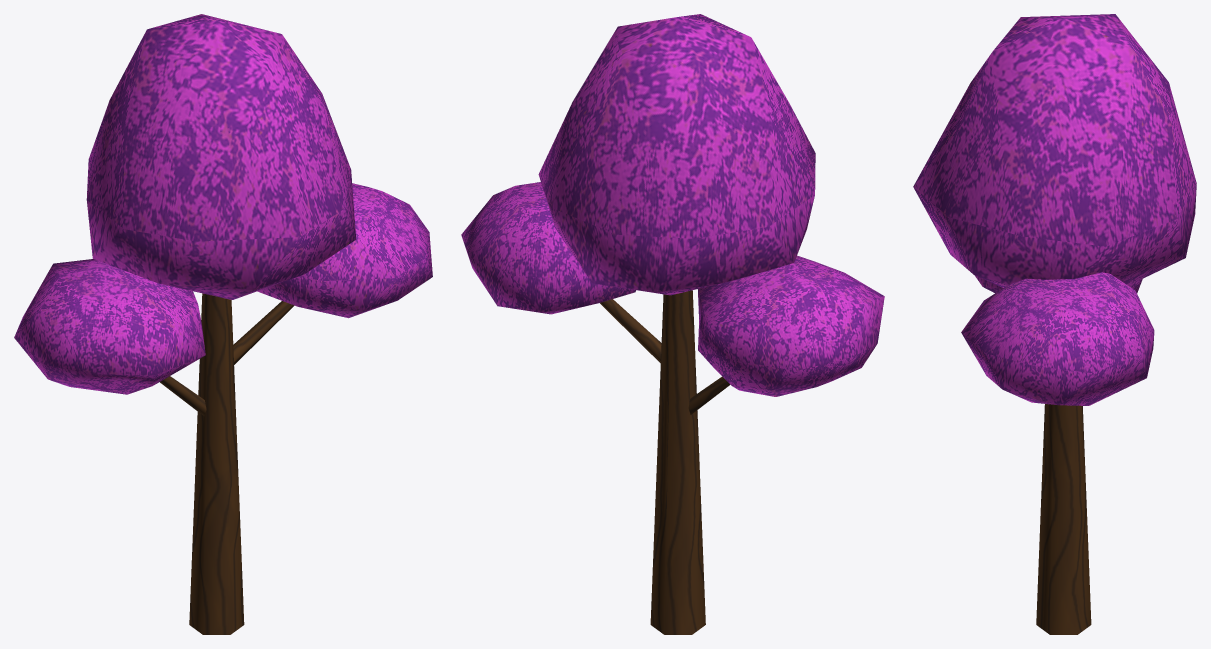
Rendered from Arbol2.fbx.
3 renders of one model, left to right at view 1: azimuth 30°, elevation 25°; view 2: azimuth 150°, elevation 25°; view 3: azimuth 270°, elevation 25°, orthographic.
Parts seen in each view (by area): view 1: Icosphere.006; view 2: Icosphere.006; view 3: Icosphere.006.
Boxes of the visible parts, x1,y1,x2,y2 form: Icosphere.006: (14, 14, 432, 634); Icosphere.006: (461, 14, 884, 634); Icosphere.006: (913, 14, 1196, 634).
Bounding box in the file's own units: 593 × 878 × 373.
